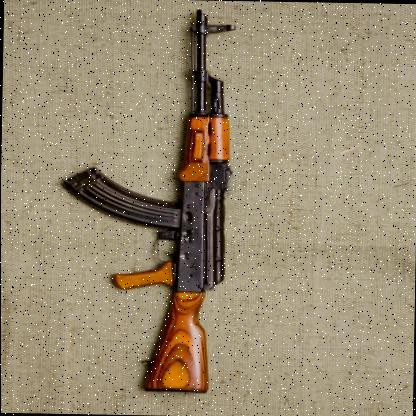rifle: (78, 5, 263, 400)
